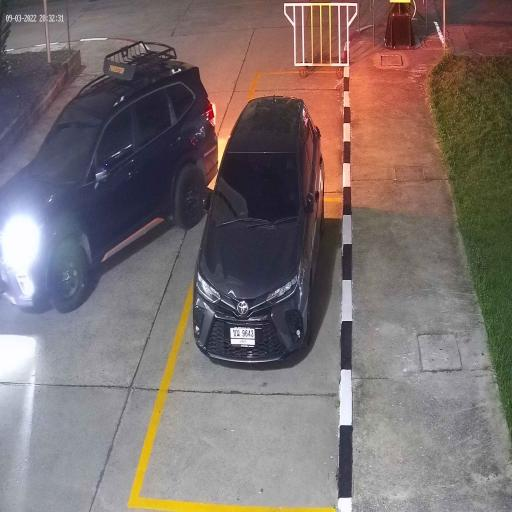car: (0, 52, 220, 311), (192, 93, 326, 366)
